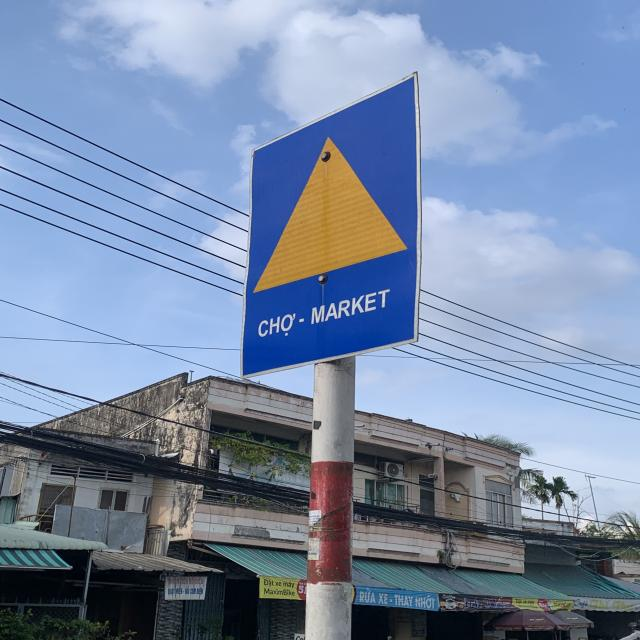Cho_Quay_Xe: (243, 73, 418, 375)
